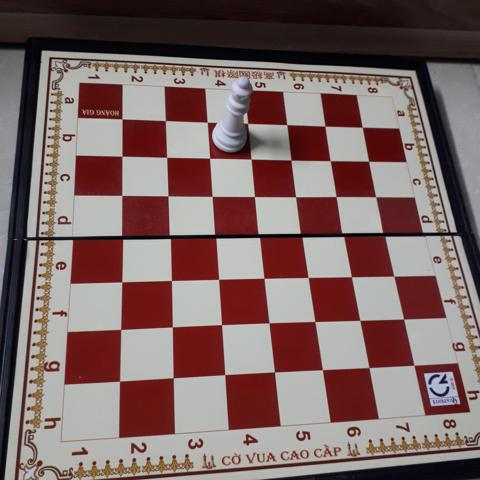xcorner: (261, 313, 279, 331), (354, 117, 372, 134), (114, 109, 131, 127), (243, 148, 261, 165), (202, 147, 219, 165), (207, 225, 224, 243), (256, 268, 274, 285), (352, 310, 370, 327), (164, 317, 181, 335), (317, 116, 334, 133), (279, 115, 296, 132), (240, 114, 257, 131), (199, 112, 216, 129), (157, 111, 174, 128), (362, 151, 379, 168), (323, 150, 340, 167), (284, 149, 301, 166), (159, 147, 176, 164), (114, 146, 131, 163), (369, 186, 386, 203), (330, 186, 347, 203), (289, 186, 306, 203), (248, 185, 265, 202), (204, 185, 221, 202), (160, 185, 177, 202), (114, 185, 131, 202), (378, 224, 395, 241), (337, 224, 354, 241), (295, 225, 312, 242), (252, 225, 269, 242), (161, 226, 178, 243), (113, 226, 130, 243), (386, 265, 403, 282), (344, 266, 361, 283), (301, 267, 318, 284), (210, 269, 227, 286), (162, 270, 179, 287), (113, 271, 130, 288), (396, 308, 413, 325), (308, 312, 325, 329), (214, 315, 231, 332), (112, 320, 129, 337), (406, 355, 423, 372), (361, 357, 378, 374), (315, 360, 332, 377), (267, 363, 284, 380), (217, 366, 234, 383), (166, 369, 183, 386), (112, 372, 129, 389)
